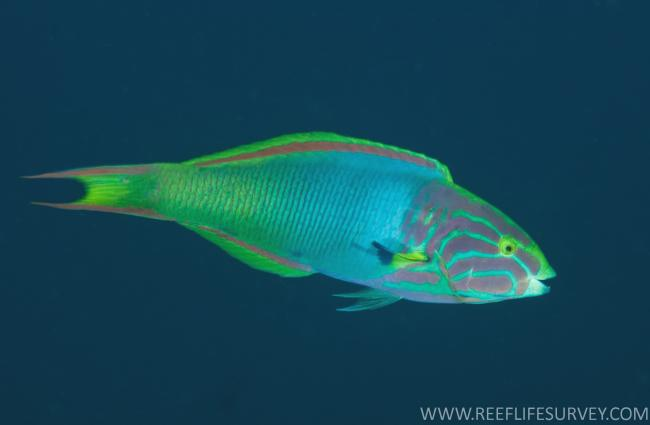fish: (20, 129, 558, 314)
